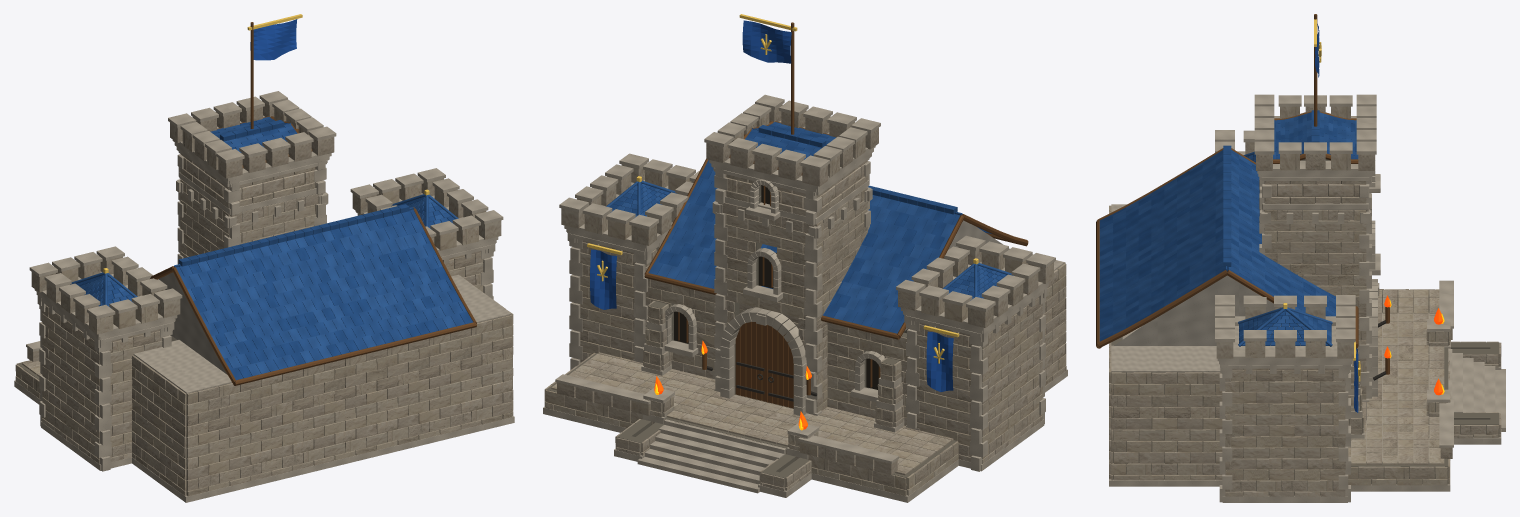
File: Bastion_II_RoofJunction.glb
3 renders of one model, left to right at view 1: azimuth 30°, elevation 25°; view 2: azimuth 150°, elevation 25°; view 3: azimuth 270°, elevation 25°, orthographic. The views are drawn at different scales.
Visible parts, largest first — view 1: Bastion_II CANDIDATE; view 2: Bastion_II CANDIDATE; view 3: Bastion_II CANDIDATE.
Part boxes in pixels (left/top/right/bottom): Bastion_II CANDIDATE: left=14, top=14, right=514, bottom=502; Bastion_II CANDIDATE: left=543, top=14, right=1067, bottom=502; Bastion_II CANDIDATE: left=1096, top=14, right=1505, bottom=502.
Bounding box in the file's own units: 21.29 × 18.42 × 17.64.
Materials: 19 (11 with a texture image).
